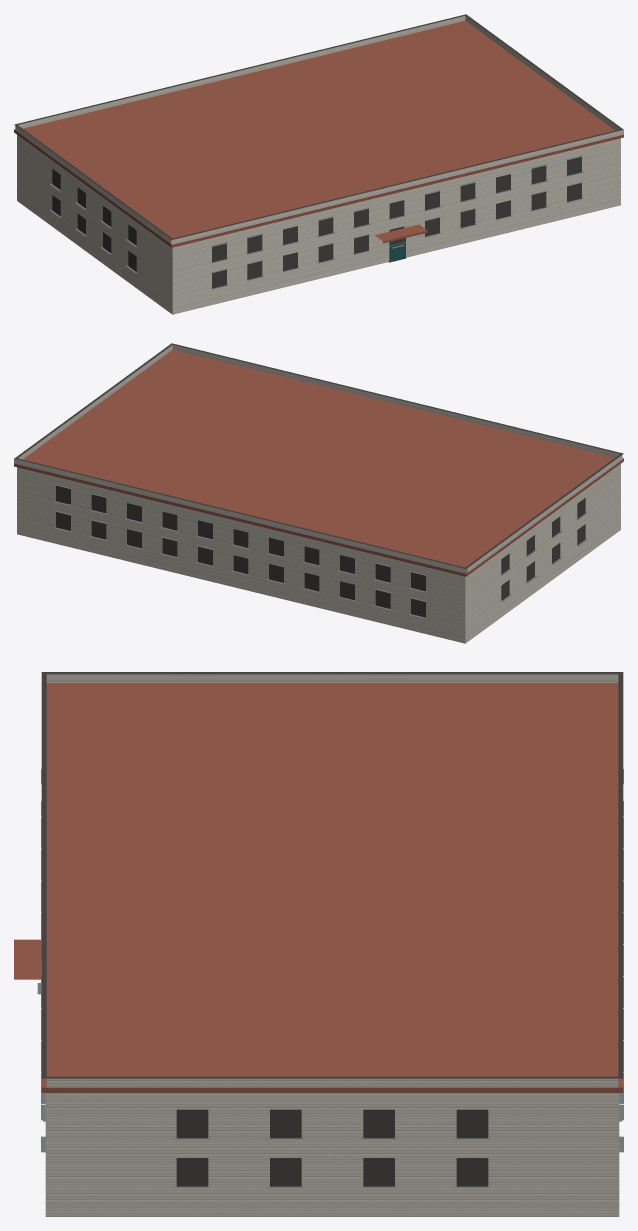
Rendered from cyxd_north_shop_lod2.gltf.
3 views of the same model, one above another, from view 1: azimuth 30°, elevation 25°; view 2: azimuth 150°, elevation 25°; view 3: azimuth 270°, elevation 25° (orthographic). The views are drawn at different scales.
Parts seen in each view (by area): view 1: cyxd_north_shop; view 2: cyxd_north_shop; view 3: cyxd_north_shop.
Boxes of the visible parts, x1=… form: cyxd_north_shop: x1=14, y1=14, x2=623, y2=314; cyxd_north_shop: x1=14, y1=343, x2=623, y2=643; cyxd_north_shop: x1=14, y1=672, x2=623, y2=1216.
Size of the model in its own units: 48.73 by 7.8 by 30.84.
